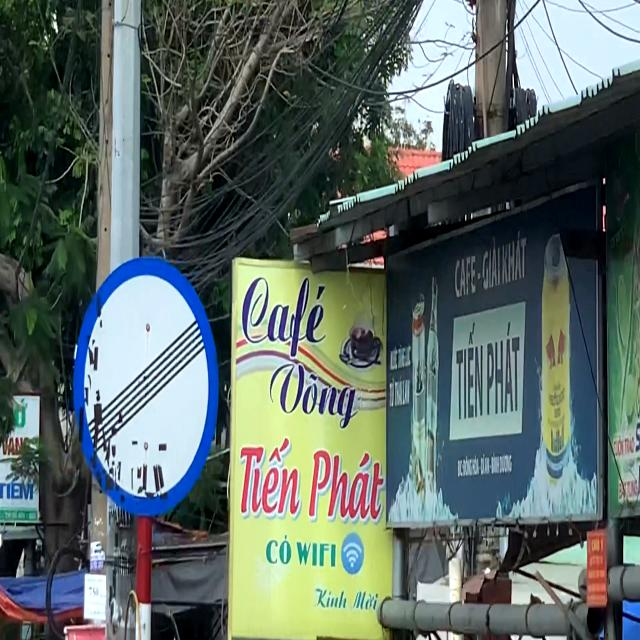DP.135: (72, 255, 220, 518)
